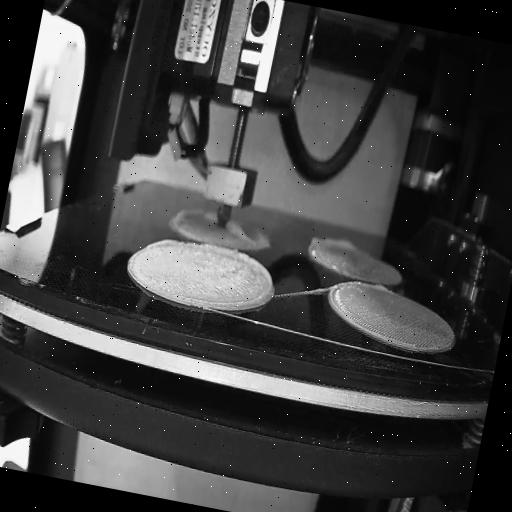over_extrusion: (196, 242, 280, 322), (306, 230, 360, 260), (143, 230, 183, 258), (222, 220, 258, 248), (372, 280, 394, 296), (202, 210, 219, 222)
